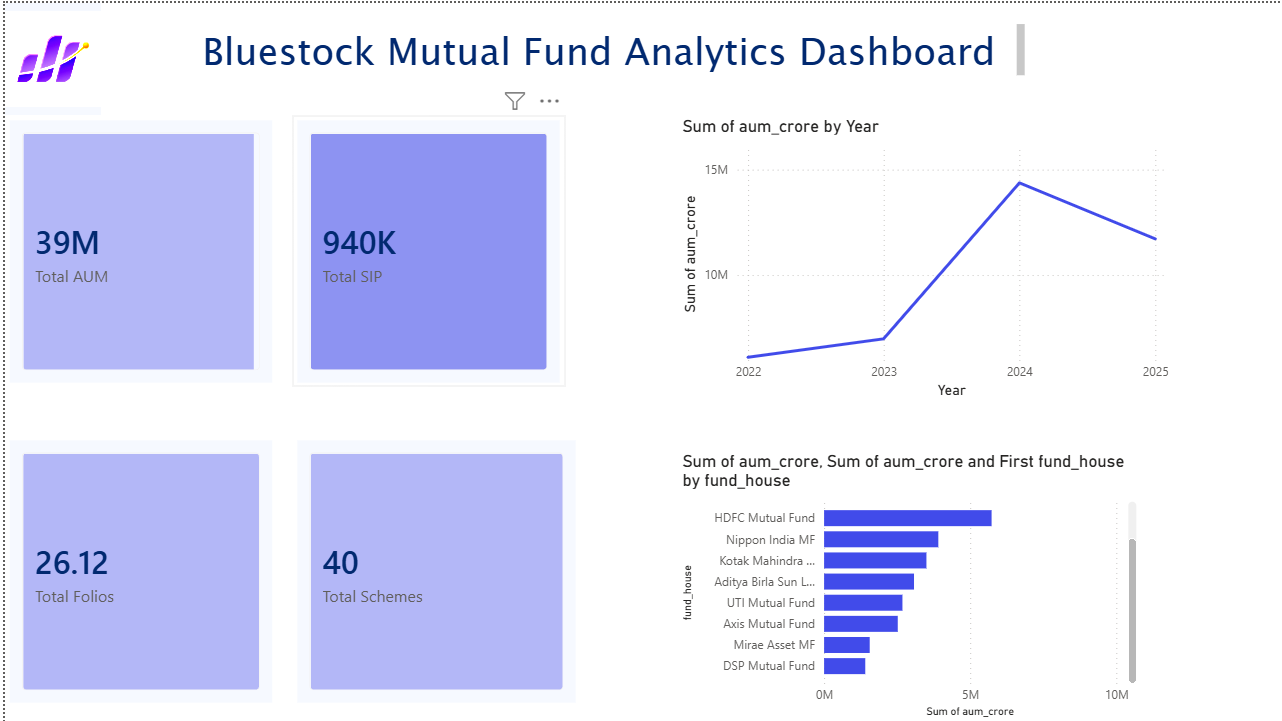

The page's visual inventory and layout, read from the dashboard file:
{"tool":"powerbi","page":{"name":"Industry Overview","canvas":[1280,720],"ordinal":0},"visuals":[{"type":"cardVisual","fields":{"Data":["03_aum_by_fund_house.Total AUM"]},"box":[0,112,272,272],"z":0},{"type":"cardVisual","fields":{"Data":["01_fund_master.Total Schemes"]},"box":[288,432,288,272],"z":1000},{"type":"lineChart","fields":{"Category":["03_aum_by_fund_house.date.Variation.Date Hierarchy.Year","03_aum_by_fund_house.date.Variation.Date Hierarchy.Quarter","03_aum_by_fund_house.date.Variation.Date Hierarchy.Month","03_aum_by_fund_house.date.Variation.Date Hierarchy.Day"],"Y":["Sum(03_aum_by_fund_house.aum_crore)"]},"box":[672,112,496,288],"z":2000},{"type":"cardVisual","fields":{"Data":["04_monthly_sip_inflows.Total SIP"]},"box":[288,112,272,272],"z":3000},{"type":"cardVisual","fields":{"Data":["06_industry_folio_count.Total Folios"]},"box":[0,432,272,272],"z":4000},{"type":"barChart","fields":{"Y":["Sum(03_aum_by_fund_house.aum_crore)"],"Category":["03_aum_by_fund_house.fund_house"]},"box":[672,448,464,272],"z":5000},{"type":"image","box":[0,0,96,112],"z":5001},{"type":"textbox","box":[192,16,832,64],"z":5002}]}

Visuals, with their boxes in screenshot pixels (x1, y1, x2, y2), scaled from the page's 1280x720 canvas onto the 1282x721 screenshot:
cardVisual - 03_aum_by_fund_house.Total AUM: {"x1": 0, "y1": 112, "x2": 272, "y2": 385}
cardVisual - 01_fund_master.Total Schemes: {"x1": 288, "y1": 433, "x2": 577, "y2": 705}
lineChart - 03_aum_by_fund_house.date.Variation.Date Hierarchy.Year x 03_aum_by_fund_house.date.Variation.Date Hierarchy.Quarter: {"x1": 673, "y1": 112, "x2": 1170, "y2": 401}
cardVisual - 04_monthly_sip_inflows.Total SIP: {"x1": 288, "y1": 112, "x2": 561, "y2": 385}
cardVisual - 06_industry_folio_count.Total Folios: {"x1": 0, "y1": 433, "x2": 272, "y2": 705}
barChart - Sum(03_aum_by_fund_house.aum_crore) x 03_aum_by_fund_house.fund_house: {"x1": 673, "y1": 449, "x2": 1138, "y2": 720}
image: {"x1": 0, "y1": 0, "x2": 96, "y2": 112}
textbox: {"x1": 192, "y1": 16, "x2": 1026, "y2": 80}
